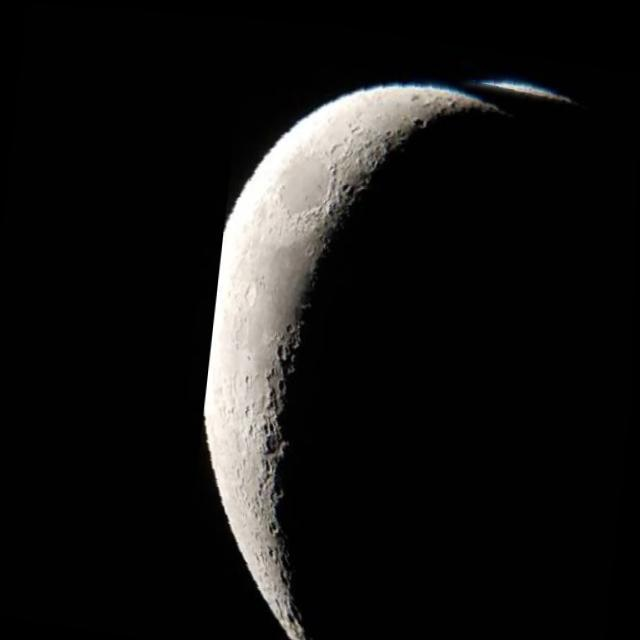moon: (180, 18, 640, 640)
